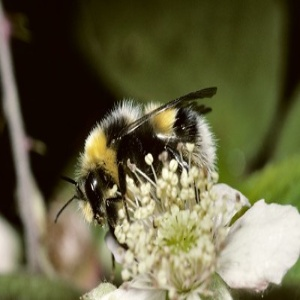bee: (53, 84, 224, 226)
